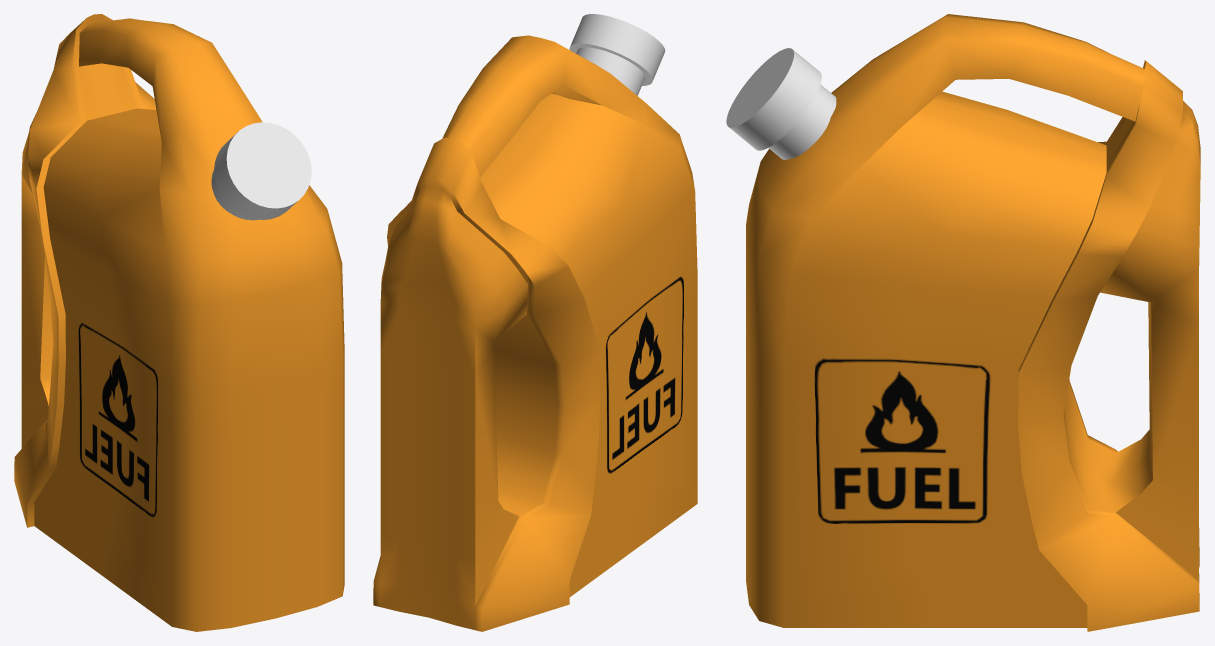
Rendered from Fuel.fbx.
3 views of the same model, side by side, from view 1: azimuth 30°, elevation 25°; view 2: azimuth 150°, elevation 25°; view 3: azimuth 270°, elevation 25° (orthographic). The views are drawn at different scales.
Parts seen in each view (by area): view 1: Fuel_botlle, Bottle_cap; view 2: Fuel_botlle, Bottle_cap; view 3: Fuel_botlle, Bottle_cap.
Part boxes in pixels (x1,y1,x2,y2): Fuel_botlle: [14, 14, 344, 631]; Bottle_cap: [211, 122, 311, 220]; Fuel_botlle: [373, 35, 697, 631]; Bottle_cap: [569, 14, 665, 95]; Fuel_botlle: [746, 14, 1200, 631]; Bottle_cap: [726, 48, 836, 159].
Bounding box in the file's own units: 428 × 1107 × 853.
